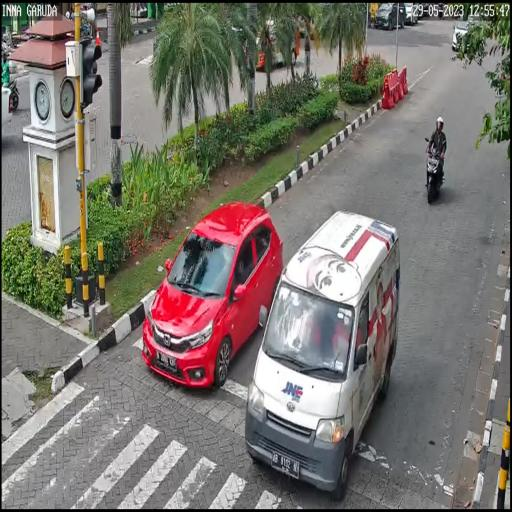mobil: (243, 210, 401, 491), (144, 200, 283, 400)
motor: (425, 137, 446, 204)
